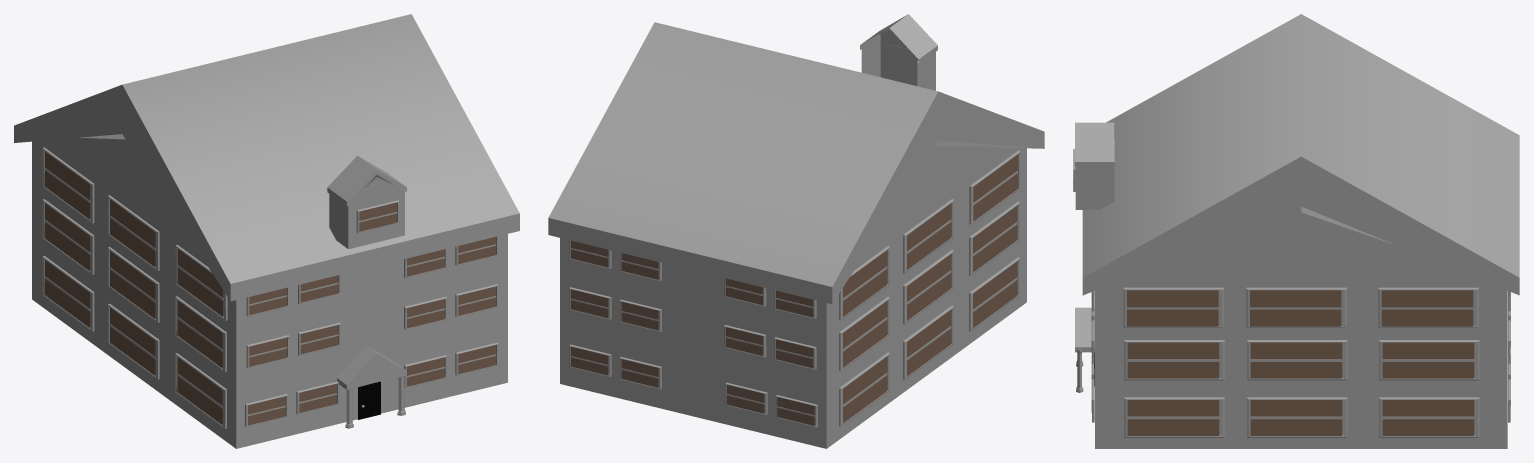
File: Apartments1.fbx
The picture shows the model from 3 angles, left to right: view 1: azimuth 30°, elevation 25°; view 2: azimuth 150°, elevation 25°; view 3: azimuth 270°, elevation 25°; orthographic projection. The views are drawn at different scales.
Visible parts, largest first — view 1: pCube251, pCube252, polySurface643, polySurface646, polySurface644, polySurface642, polySurface648, polySurface645, polySurface649, polySurface647, polySurface638, pCube253 (+14 smaller); view 2: pCube251, pCube252, polySurface638, polySurface646, polySurface642, polySurface648, polySurface647, polySurface645, polySurface649, polySurface644, polySurface643, polySurface615 (+12 smaller); view 3: pCube251, polySurface656, polySurface658, polySurface652, polySurface654, polySurface653, polySurface650, polySurface657, polySurface655, polySurface651, pCube252, pCube253.
Boxes of the visible parts, x1,y1,x2,y2 form: pCube251: [14, 14, 519, 448]; pCube252: [327, 155, 406, 249]; polySurface643: [42, 147, 94, 223]; polySurface646: [42, 256, 94, 331]; polySurface644: [42, 199, 94, 274]; polySurface642: [108, 195, 159, 270]; polySurface648: [175, 296, 226, 371]; polySurface645: [108, 247, 159, 322]; polySurface649: [175, 353, 226, 428]; polySurface647: [108, 303, 159, 379]; polySurface638: [175, 245, 227, 320]; pCube253: [337, 346, 406, 390]; pCube251: [548, 22, 1044, 448]; pCube252: [860, 14, 937, 90]; polySurface638: [969, 150, 1020, 224]; polySurface646: [839, 352, 889, 426]; polySurface642: [903, 199, 953, 273]; polySurface648: [969, 201, 1019, 275]; polySurface647: [903, 305, 953, 379]; polySurface645: [903, 250, 953, 324]; polySurface649: [969, 257, 1019, 331]; polySurface644: [839, 296, 889, 370]; polySurface643: [839, 246, 889, 320]; polySurface615: [774, 337, 816, 369]; pCube251: [1082, 14, 1519, 448]; polySurface656: [1379, 340, 1479, 380]; polySurface658: [1378, 287, 1478, 327]; polySurface652: [1123, 287, 1223, 327]; polySurface654: [1247, 397, 1347, 437]; polySurface653: [1247, 340, 1347, 380]; polySurface650: [1124, 340, 1224, 380]; polySurface657: [1379, 397, 1479, 437]; polySurface655: [1246, 287, 1346, 327]; polySurface651: [1124, 397, 1224, 437]; pCube252: [1075, 122, 1114, 209]; pCube253: [1075, 307, 1094, 352].
Bounding box in the file's own units: 292 × 283 × 387.
